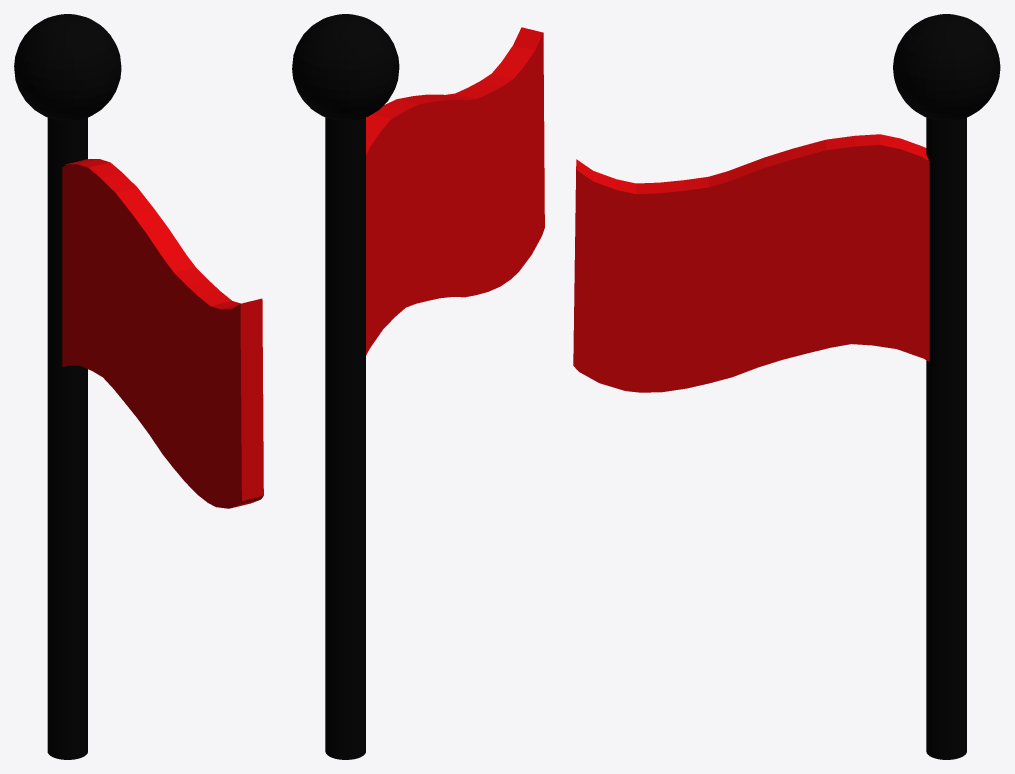
Rendered from Flag.fbx.
The picture shows the model from 3 angles, left to right: view 1: azimuth 30°, elevation 25°; view 2: azimuth 150°, elevation 25°; view 3: azimuth 270°, elevation 25°; orthographic projection.
Visible parts, largest first — view 1: flag; view 2: flag; view 3: flag.
Part boxes in pixels (x1,y1,x2,y2): flag: (14,14,263,759); flag: (292,14,544,759); flag: (573,14,1000,759).
Bounding box in the file's own units: 178 × 1334 × 705.
